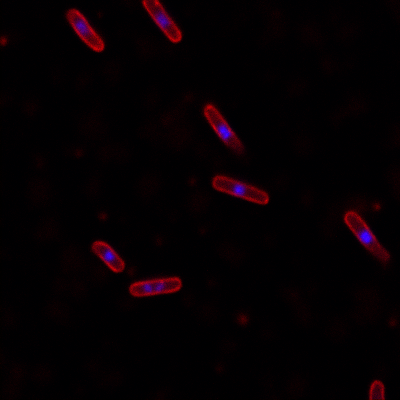Nalidixate: (142, 1, 183, 45), (212, 174, 270, 205), (129, 276, 182, 297)
Oblique: (344, 211, 389, 264), (202, 105, 244, 157), (65, 9, 104, 53), (90, 239, 126, 274)
